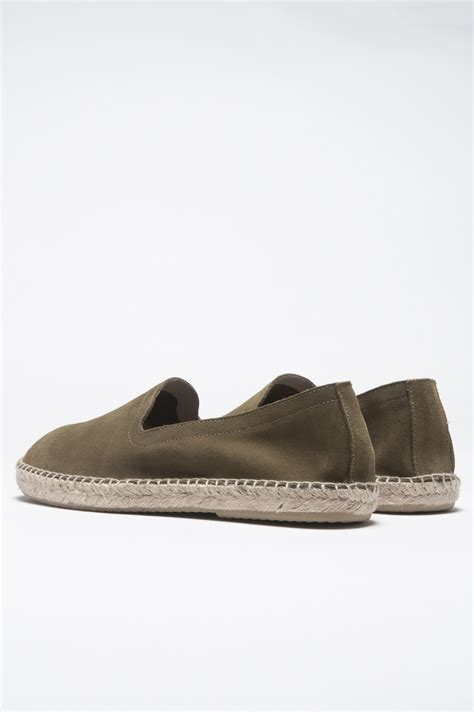gamuza: (21, 372, 457, 486)
